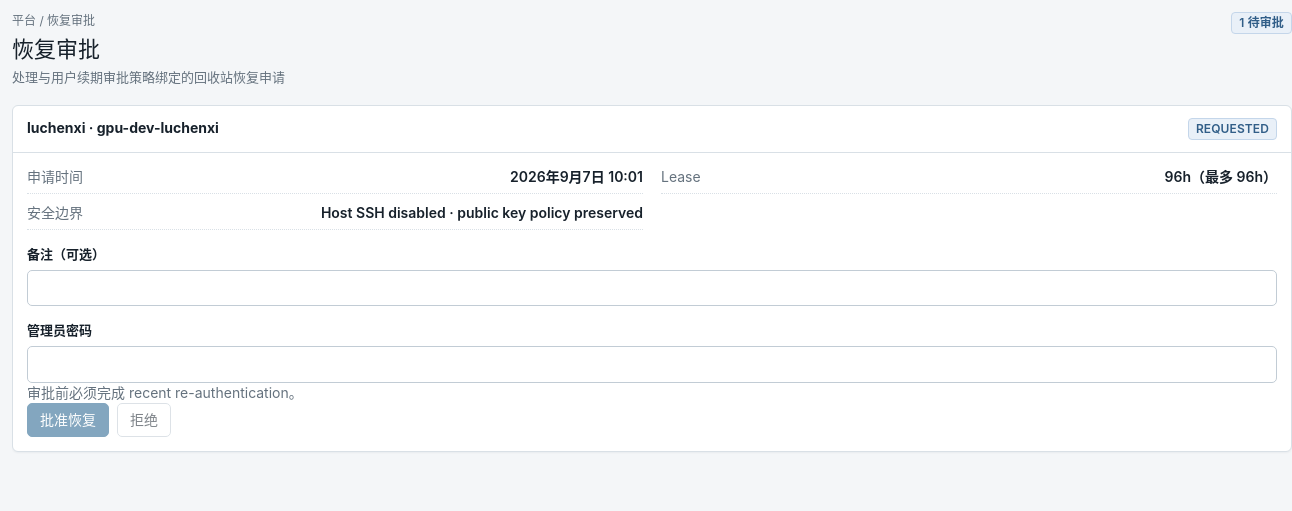
Test case: administrator restore approval › shows a policy-bound restore and reauthenticates before approval
Expected: the heading "恢复审批" is shown, [12,36,100,62]
Expected: the text "luchenxi · gpu-dev-luchenxi" is shown, [27,118,219,139]
Type "fixture password only" into the password field labelled "管理员密码".
click(652, 364); type("fixture password only")  # box [27,346,1277,382]
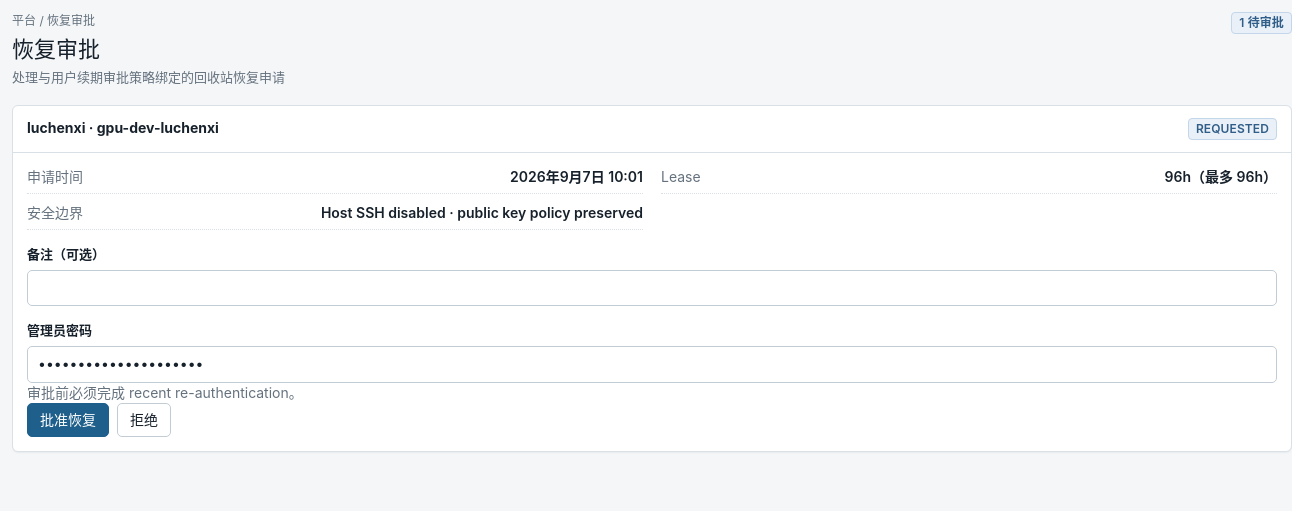
Type "  reviewed restore  " into the field labelled "备注（可选）".
click(652, 288); type("  reviewed restore  ")  # box [27,270,1277,306]
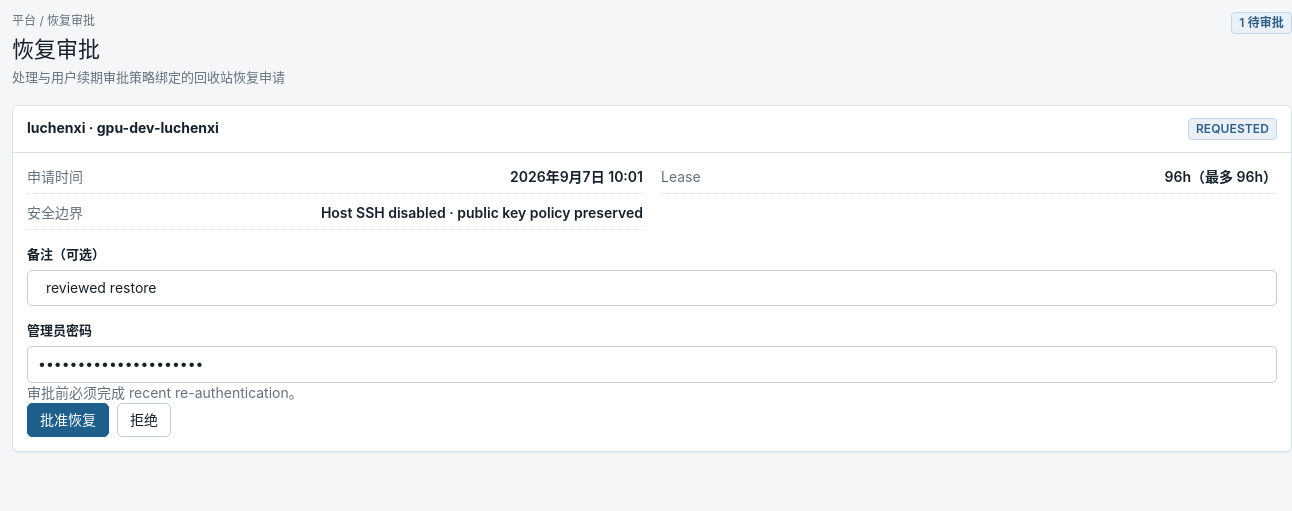
Click the button "批准恢复".
click(68, 420)  # box [27,403,109,437]
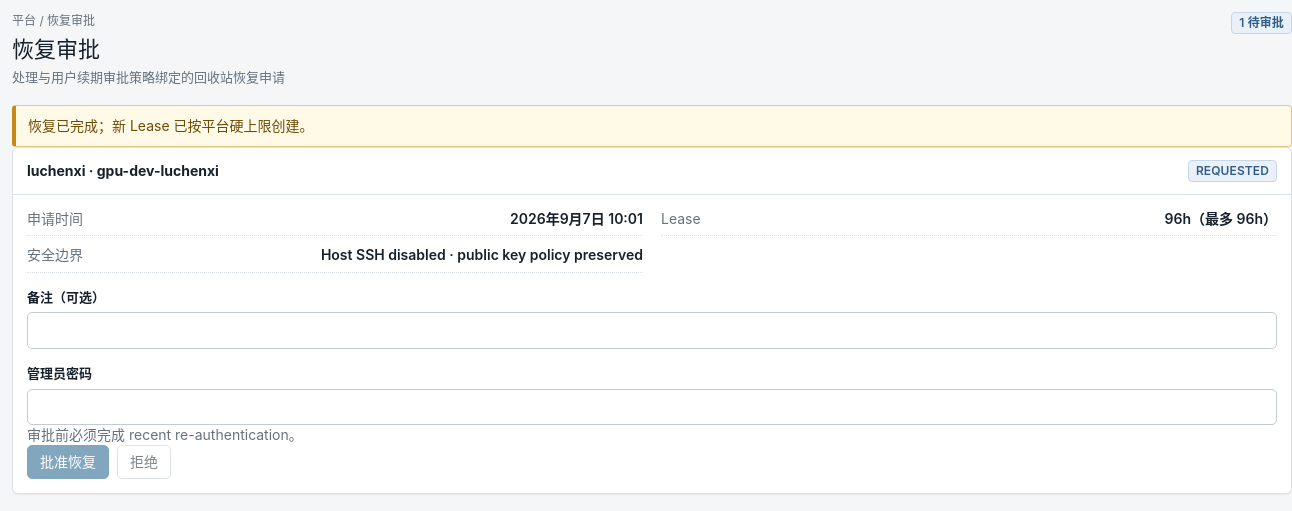
Expected: the text "恢复已完成；新 Lease 已按平台硬上限创建。" is shown, [12,105,1291,147]
